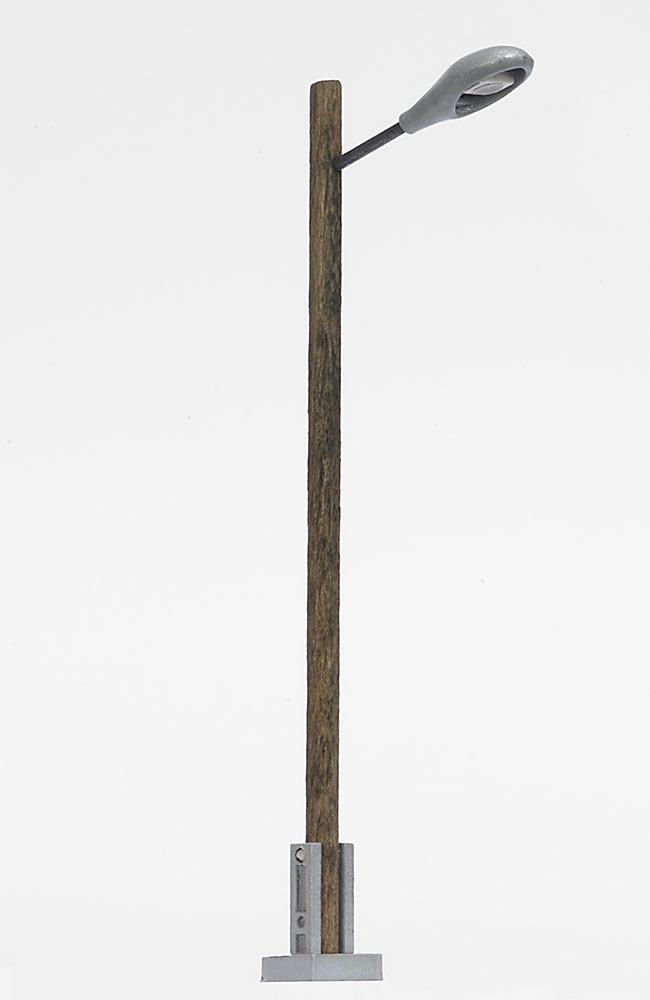light_pole: (282, 66, 378, 982)
